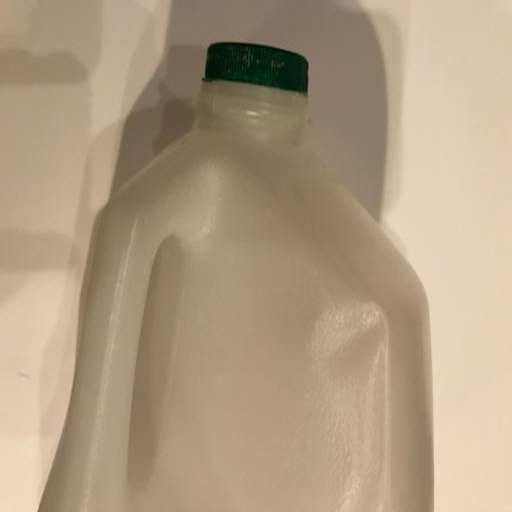Plastic_1: (39, 39, 429, 512)
